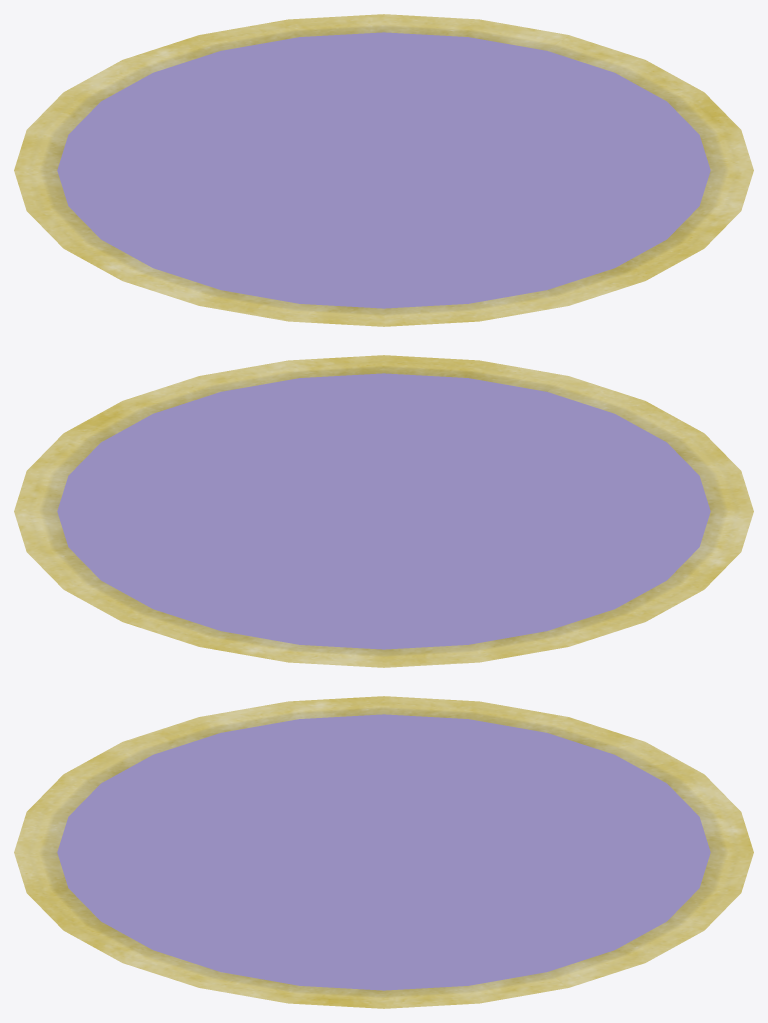
File: Cnt_Env_FloorLineEnd.fbx
3 renders of one model, top to bottom at view 1: azimuth 30°, elevation 25°; view 2: azimuth 150°, elevation 25°; view 3: azimuth 270°, elevation 25°, orthographic.
Visible parts, largest first — view 1: Cnt_Env_FloorLineEnd; view 2: Cnt_Env_FloorLineEnd; view 3: Cnt_Env_FloorLineEnd.
Boxes of the visible parts, left/top/right/bottom form: Cnt_Env_FloorLineEnd: left=14, top=14, right=753, bottom=326; Cnt_Env_FloorLineEnd: left=14, top=355, right=753, bottom=667; Cnt_Env_FloorLineEnd: left=14, top=696, right=753, bottom=1008.
Bounding box in the file's own units: 72.3 × 0 × 72.3.
